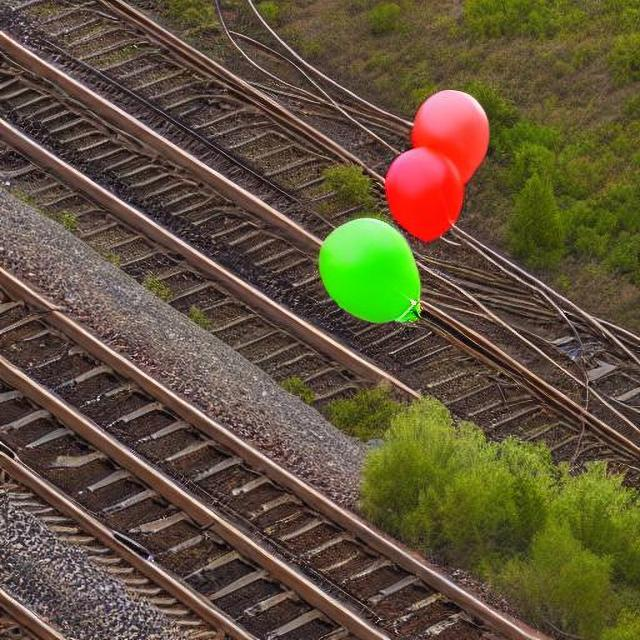balloon: (376, 88, 490, 314), (311, 208, 425, 325)
